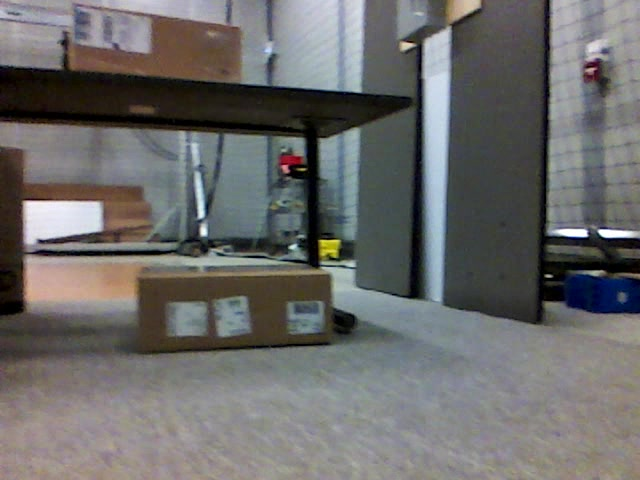box: (138, 266, 333, 346), (68, 4, 243, 85)
